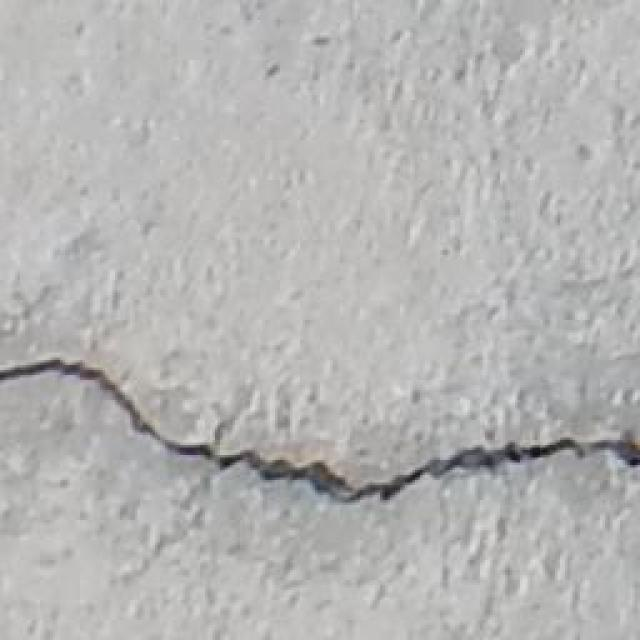concrete-crack: (0, 358, 640, 502)
